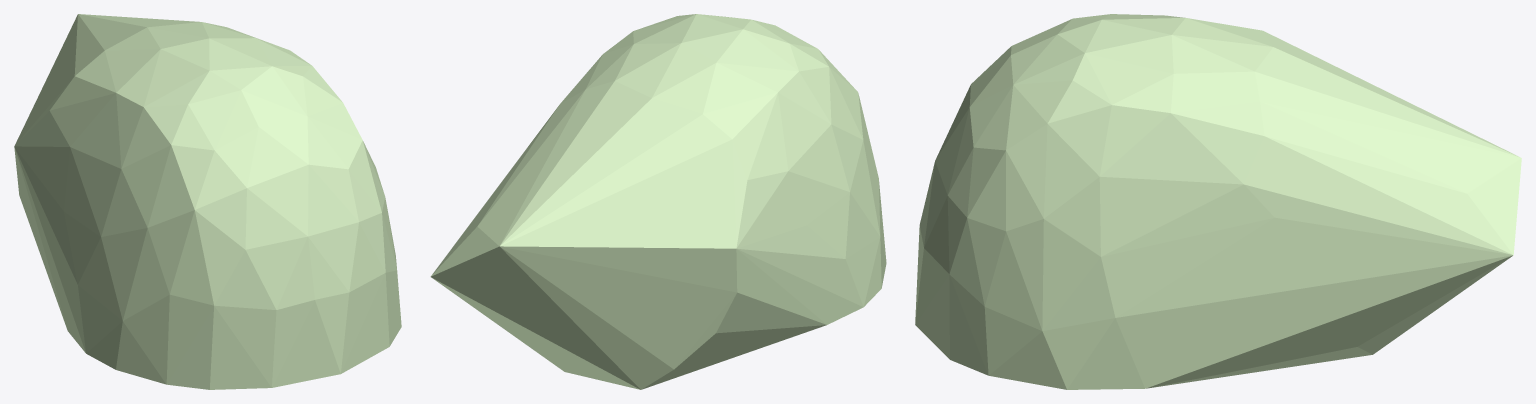
The model's file is kuka_link4_resp_coll_1.dae.
3 views of the same model, side by side, from view 1: azimuth 30°, elevation 25°; view 2: azimuth 150°, elevation 25°; view 3: azimuth 270°, elevation 25° (orthographic). The views are drawn at different scales.
Visible parts, largest first — view 1: Node_0000015C5C9144E0; view 2: Node_0000015C5C9144E0; view 3: Node_0000015C5C9144E0.
Boxes of the visible parts, bbox=[...] form: Node_0000015C5C9144E0: bbox=[14, 14, 401, 389]; Node_0000015C5C9144E0: bbox=[430, 14, 886, 389]; Node_0000015C5C9144E0: bbox=[915, 14, 1521, 389].
Size of the model in its own units: 0.1357 by 0.123 by 0.222.
